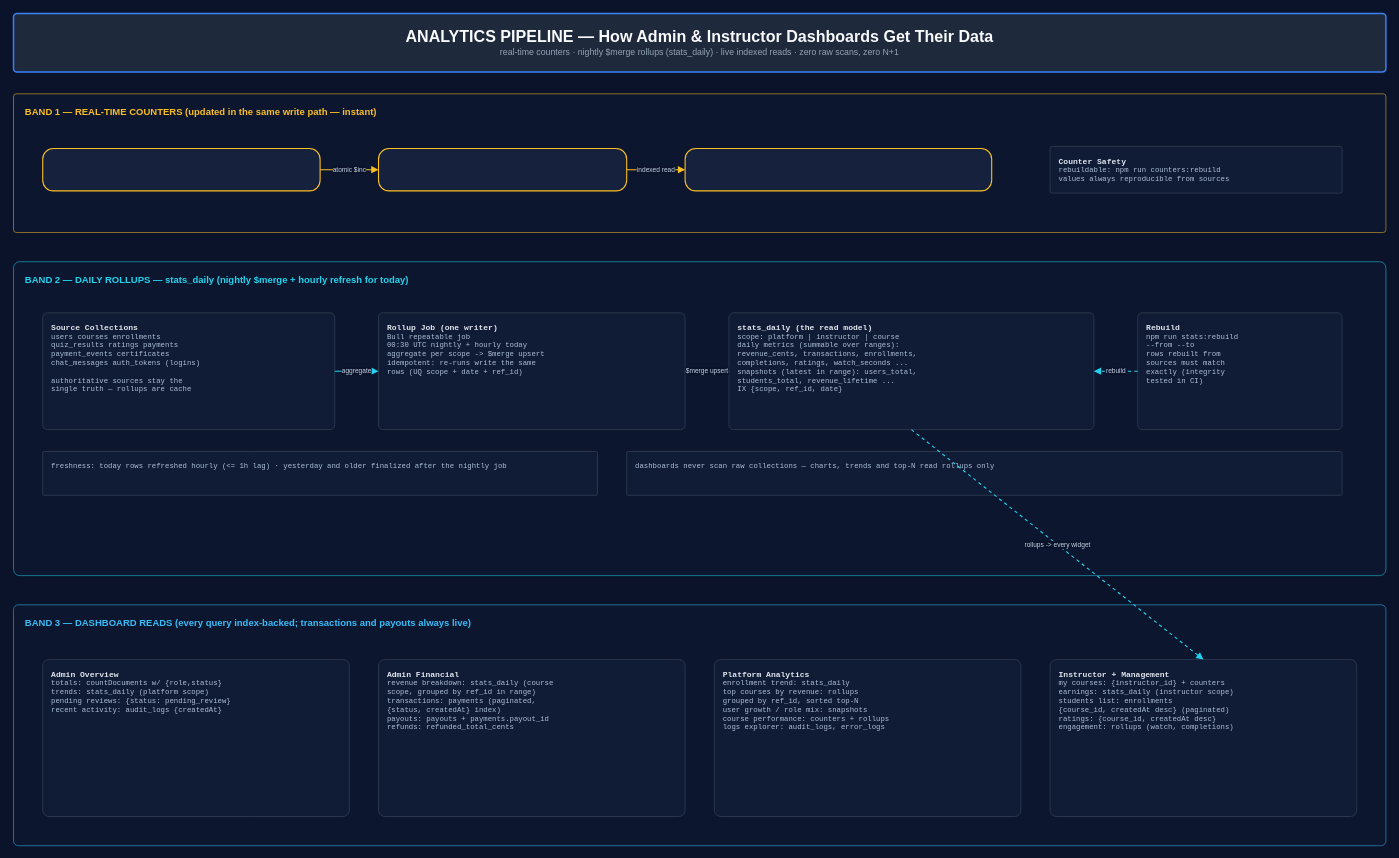
Image size: 1399x858. Some labels were removed from this diagram. Each missing label, with the centre of its shape:
Course cards · instructor course lists · rating average — one indexed read: pixel 838 169
courses.stats / users.stats atomic $inc — never recomputed: pixel 502 169
Enrollment created / rating written / progress saved (fact + counter, one path): pixel 181 169
